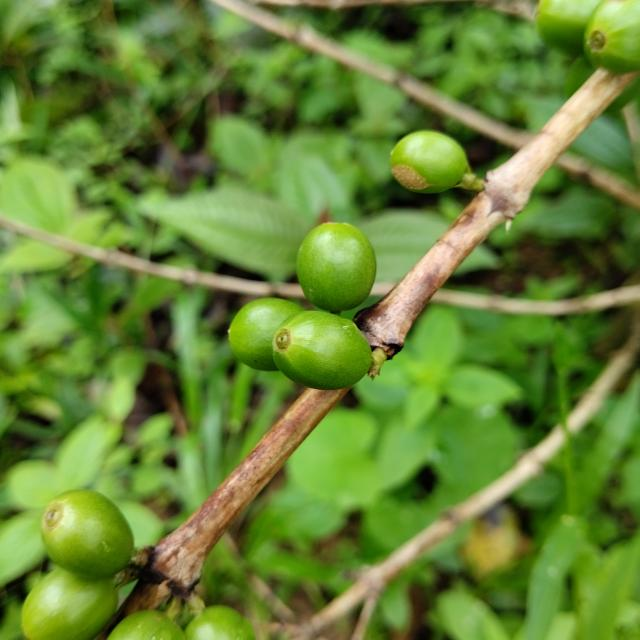green: (40, 490, 134, 579), (272, 311, 372, 390), (297, 222, 377, 312), (21, 569, 117, 640), (228, 298, 304, 371), (391, 130, 469, 193), (536, 0, 602, 53), (184, 606, 256, 640), (106, 611, 186, 640)
